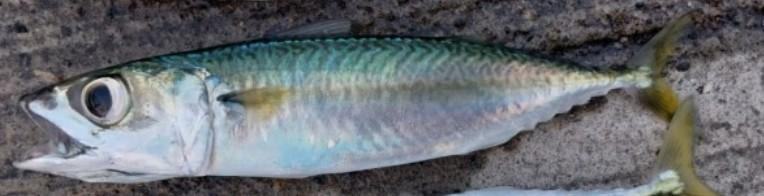fish: (15, 14, 690, 182)
